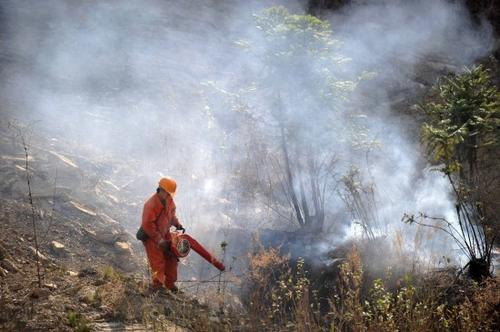smoke: (11, 11, 417, 177), (192, 179, 462, 249)
